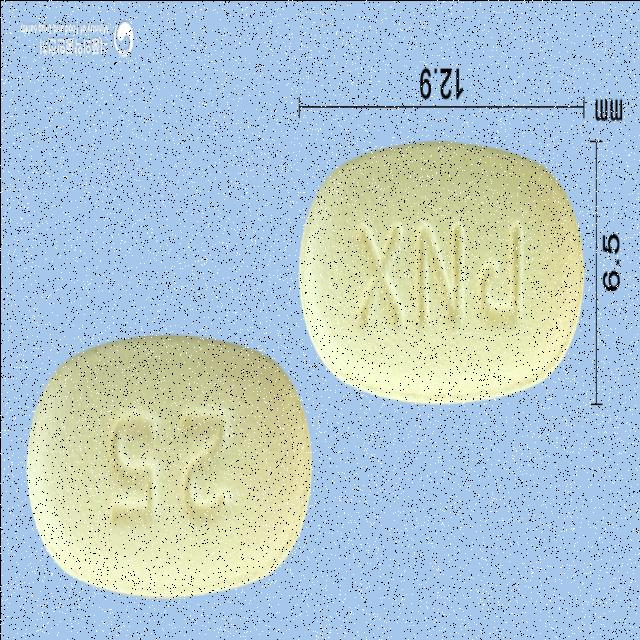Piclo Tab: (22, 334, 311, 598), (298, 144, 582, 402)
